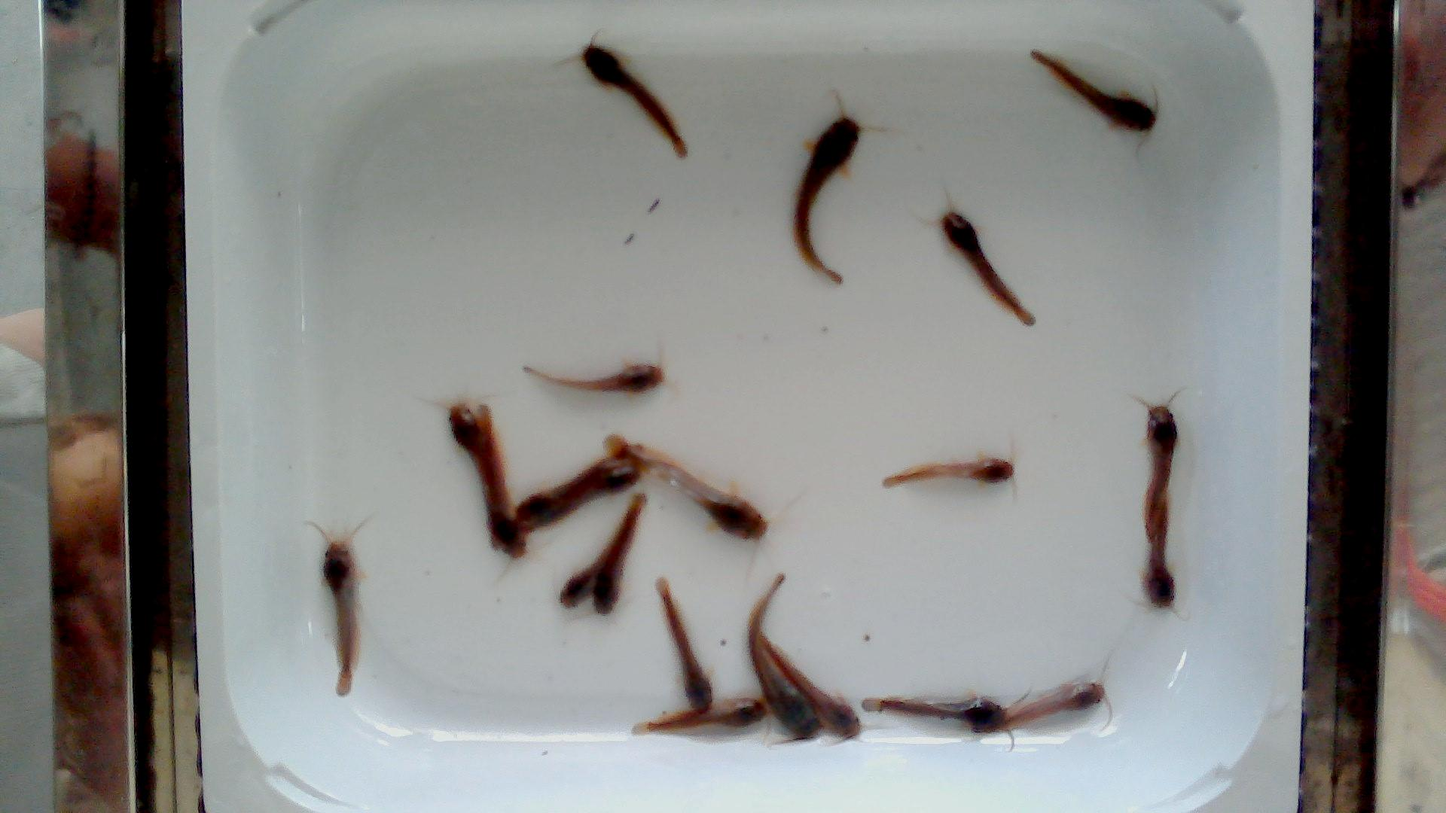lele: (621, 439, 767, 540), (747, 576, 823, 740), (793, 108, 862, 283), (582, 42, 686, 158), (941, 209, 1035, 324), (763, 637, 863, 742), (1032, 50, 1155, 131), (519, 446, 632, 524), (523, 459, 642, 531), (478, 404, 528, 560), (449, 402, 500, 551), (656, 577, 712, 711), (593, 494, 647, 617), (558, 516, 624, 609), (322, 533, 359, 696), (861, 695, 1007, 732), (632, 699, 766, 738), (1006, 680, 1107, 730), (1145, 404, 1178, 543), (883, 456, 1014, 487), (1140, 498, 1176, 608), (525, 364, 664, 392)
